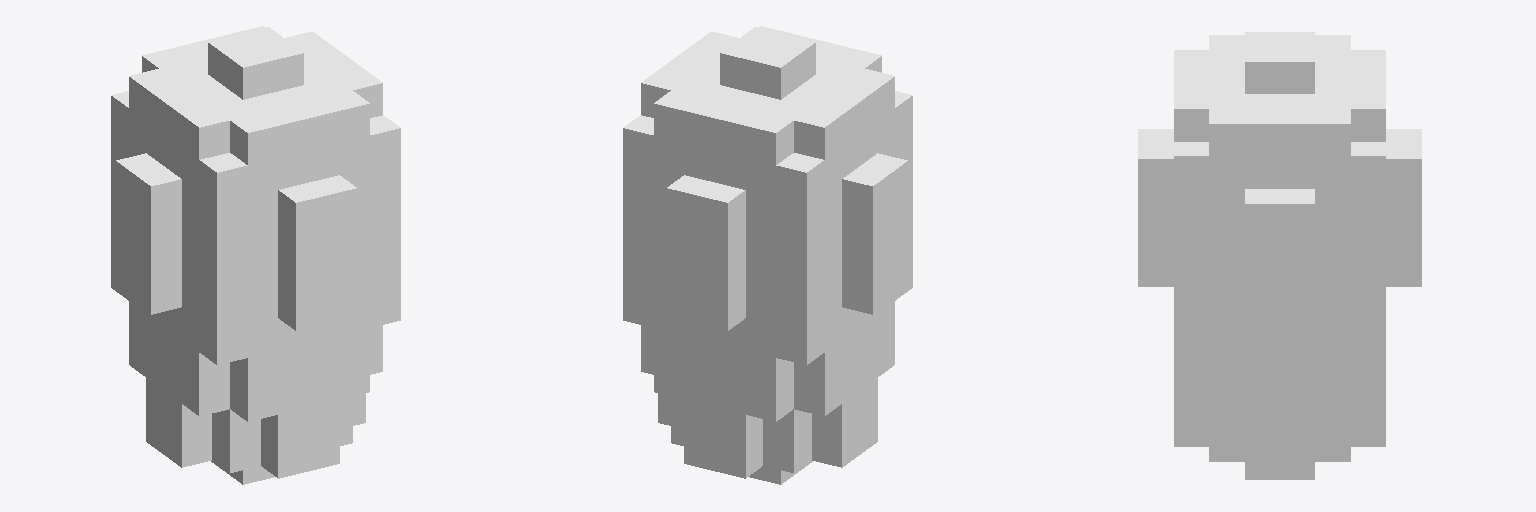
File: tongue.obj
The picture shows the model from 3 angles: view 1: azimuth 30°, elevation 25°; view 2: azimuth 150°, elevation 25°; view 3: azimuth 270°, elevation 25°; orthographic projection.
Visible parts, largest first — view 1: object 1; view 2: object 1; view 3: object 1.
Part boxes in pixels (x1,y1,x2,y2): object 1: (111, 26, 400, 484); object 1: (623, 26, 912, 484); object 1: (1138, 32, 1421, 479).
Bounding box in the file's own units: 0.8 × 1.3 × 0.8.